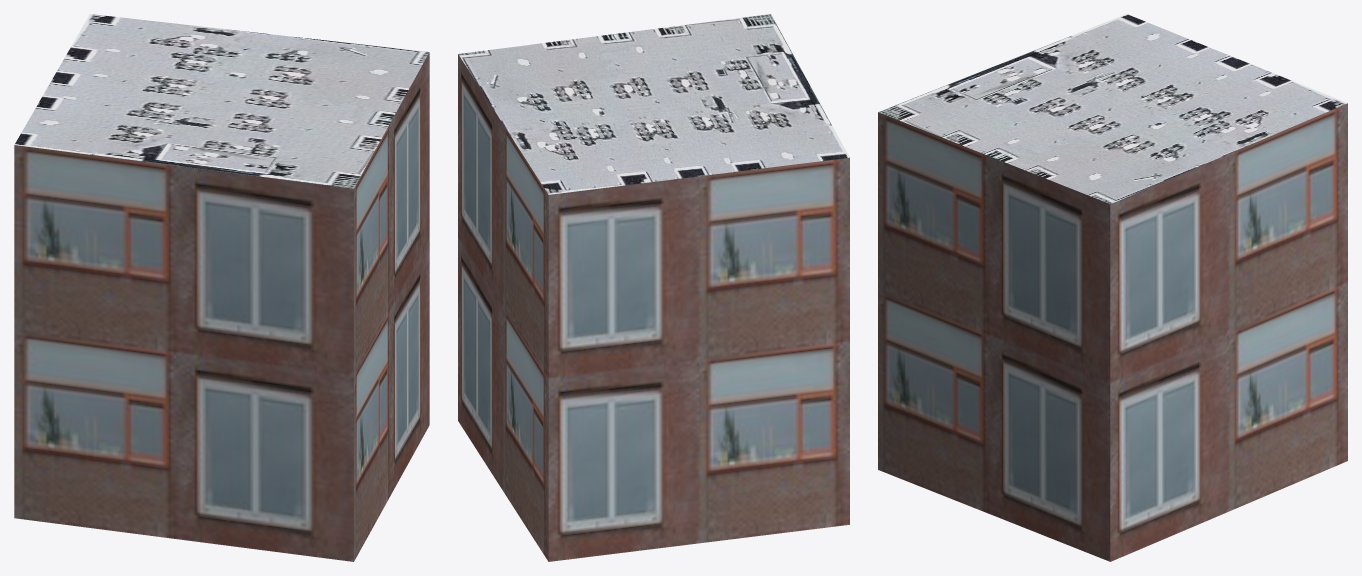
Rendered from ResTex__1829.fbx.
3 views of the same model, side by side, from view 1: azimuth 30°, elevation 25°; view 2: azimuth 150°, elevation 25°; view 3: azimuth 270°, elevation 25° (orthographic). The views are drawn at different scales.
Parts seen in each view (by area): view 1: CityEngineMaterial_19_m, CityEngineMaterial_15_m; view 2: CityEngineMaterial_19_m, CityEngineMaterial_15_m; view 3: CityEngineMaterial_19_m, CityEngineMaterial_15_m.
Part boxes in pixels (x1,y1,x2,y2): CityEngineMaterial_19_m: [14, 52, 429, 561]; CityEngineMaterial_15_m: [14, 14, 429, 188]; CityEngineMaterial_19_m: [458, 54, 849, 561]; CityEngineMaterial_15_m: [458, 14, 849, 194]; CityEngineMaterial_19_m: [878, 103, 1347, 561]; CityEngineMaterial_15_m: [878, 14, 1347, 203].
Bounding box in the file's own units: 6.84 × 6 × 7.14.
2 materials, 2 textured.
